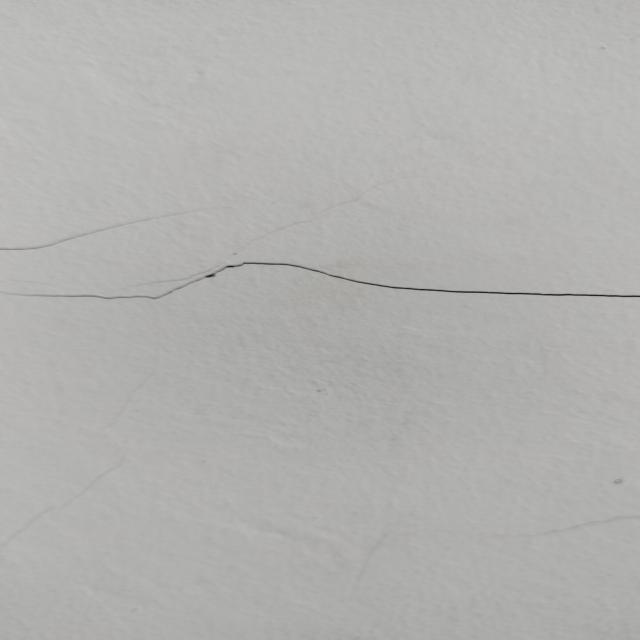Crack: (0, 258, 640, 302)
